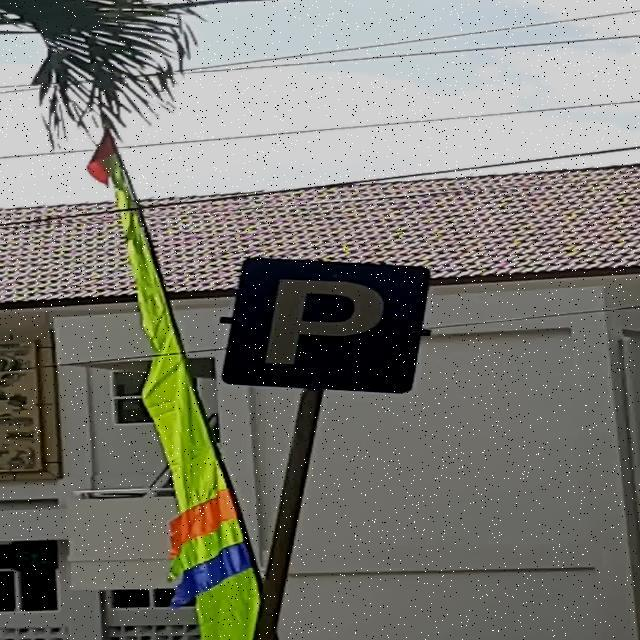Tempat Parkir: (223, 257, 429, 394)
